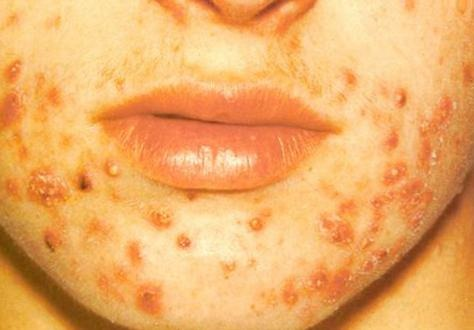Acne: (15, 59, 444, 301)
